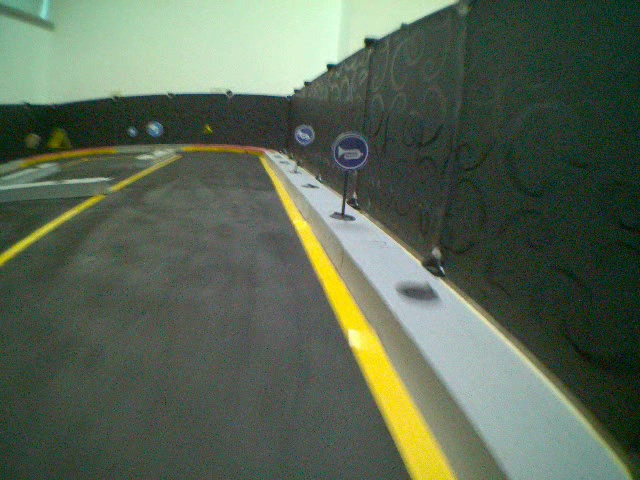horn: (332, 131, 370, 171), (292, 123, 316, 145)
turn: (146, 122, 162, 137)
